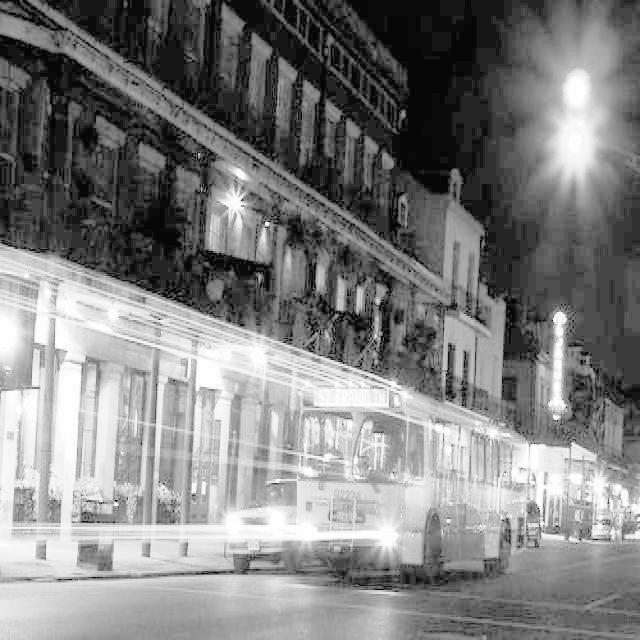Bus: (300, 359, 535, 598)
Car: (212, 462, 325, 576), (588, 491, 627, 564)
